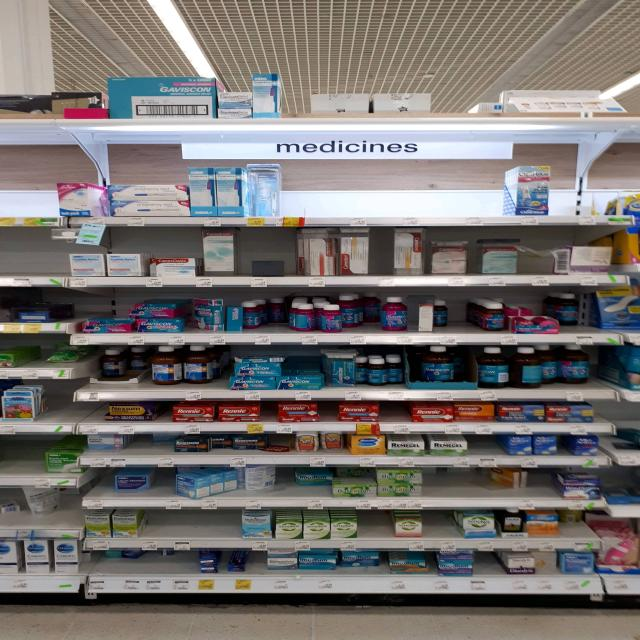void: (578, 160, 620, 227), (456, 161, 494, 226), (419, 162, 455, 228), (26, 232, 66, 287), (265, 228, 300, 286), (319, 163, 350, 227), (354, 164, 384, 230), (285, 165, 316, 228), (388, 162, 418, 227), (0, 192, 50, 229), (593, 346, 625, 402), (525, 228, 556, 284), (447, 295, 480, 346), (12, 335, 50, 379), (71, 382, 100, 434), (6, 440, 38, 487), (242, 229, 265, 289), (206, 510, 238, 552), (530, 468, 560, 512), (86, 464, 112, 511), (554, 168, 574, 226), (360, 511, 390, 549), (459, 466, 486, 508), (436, 96, 476, 124), (427, 510, 456, 548), (178, 511, 203, 552), (4, 229, 22, 285), (146, 512, 173, 548), (430, 468, 454, 508), (490, 468, 514, 508), (44, 387, 65, 432), (603, 88, 629, 120), (286, 91, 310, 125)
